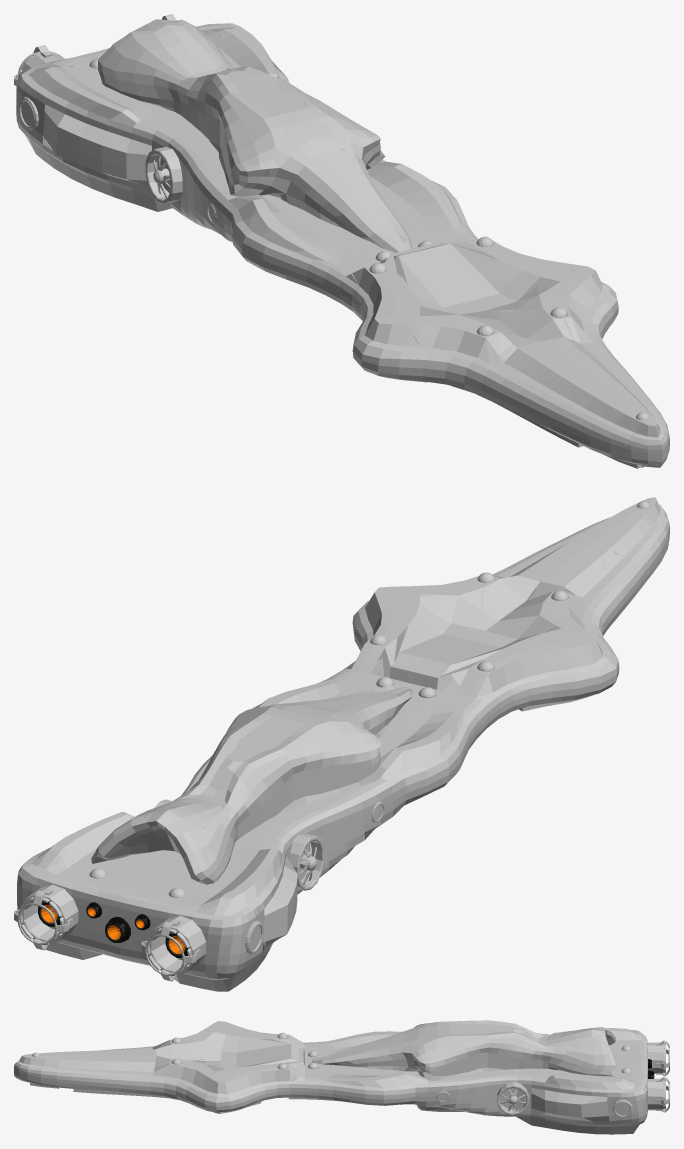
File: Corvette_Fractured.fbx
3 views of the same model, one above another, from view 1: azimuth 30°, elevation 25°; view 2: azimuth 150°, elevation 25°; view 3: azimuth 270°, elevation 25° (orthographic). The views are drawn at different scales.
Parts seen in each view (by area): view 1: Corvette, Corvette_cell.189, Corvette_cell.059, Corvette_cell.050, Corvette_cell.098, SideEngines, Corvette_cell.006, Corvette_cell.179, Corvette_cell.061, Corvette_cell.080, Corvette_cell.196, Corvette_cell.004 (+18 smaller); view 2: Corvette, BackBigEngines, Corvette_cell.179, Corvette_cell.050, Corvette_cell.133, Corvette_cell.142, Corvette_cell.010, SideEngines, Corvette_cell.189, Corvette_cell.098, Corvette_cell.196, Corvette_cell.059 (+25 smaller); view 3: Corvette, Corvette_cell.066, Corvette_cell.046, BackBigEngines, Corvette_cell.068, Corvette_cell.081, Corvette_cell.033, Corvette_cell.063, SideEngines, Corvette_cell.010, Corvette_cell.133, Corvette_cell.008 (+28 smaller).
Part boxes in pixels (box(x1,y1,x2,y2)): Corvette: box(16, 19, 669, 468); Corvette_cell.189: box(419, 305, 518, 396); Corvette_cell.059: box(248, 228, 343, 297); Corvette_cell.050: box(473, 342, 609, 405); Corvette_cell.098: box(352, 320, 437, 382); SideEngines: box(18, 97, 216, 222); Corvette_cell.006: box(501, 370, 628, 439); Corvette_cell.179: box(201, 176, 271, 257); Corvette_cell.061: box(269, 159, 344, 226); Corvette_cell.080: box(581, 373, 654, 426); Corvette_cell.196: box(476, 305, 580, 346); Corvette_cell.004: box(337, 192, 399, 244); Corvette: box(17, 497, 669, 991); BackBigEngines: box(14, 884, 206, 981); Corvette_cell.179: box(343, 749, 449, 831); Corvette_cell.050: box(523, 544, 622, 634); Corvette_cell.133: box(36, 816, 158, 926); Corvette_cell.142: box(488, 640, 548, 691); Corvette_cell.010: box(183, 740, 256, 820); SideEngines: box(155, 800, 384, 954); Corvette_cell.189: box(480, 588, 606, 638); Corvette_cell.098: box(572, 635, 619, 699); Corvette_cell.196: box(478, 571, 536, 636); Corvette_cell.059: box(423, 705, 482, 779); Corvette: box(14, 1020, 647, 1134); Corvette_cell.066: box(447, 1074, 510, 1116); Corvette_cell.046: box(540, 1029, 600, 1073); BackBigEngines: box(647, 1040, 669, 1112); Corvette_cell.068: box(358, 1073, 441, 1106); Corvette_cell.081: box(598, 1079, 647, 1122); Corvette_cell.033: box(562, 1073, 602, 1118); Corvette_cell.063: box(511, 1075, 573, 1117); SideEngines: box(436, 1082, 632, 1117); Corvette_cell.010: box(494, 1023, 548, 1066); Corvette_cell.133: box(587, 1034, 647, 1088); Corvette_cell.008: box(491, 1035, 538, 1070).
Bounding box in the file's own units: 330 × 179 × 1259.
